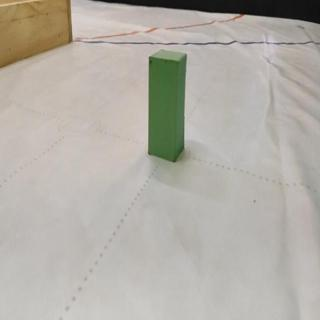greenbox: (147, 47, 189, 163)
